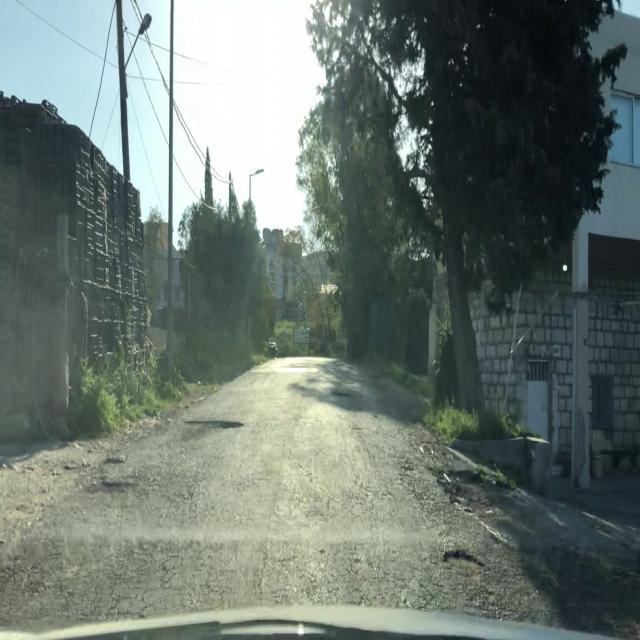Pothole: (433, 465, 517, 504), (429, 546, 488, 582), (177, 412, 247, 440), (329, 390, 354, 400)
